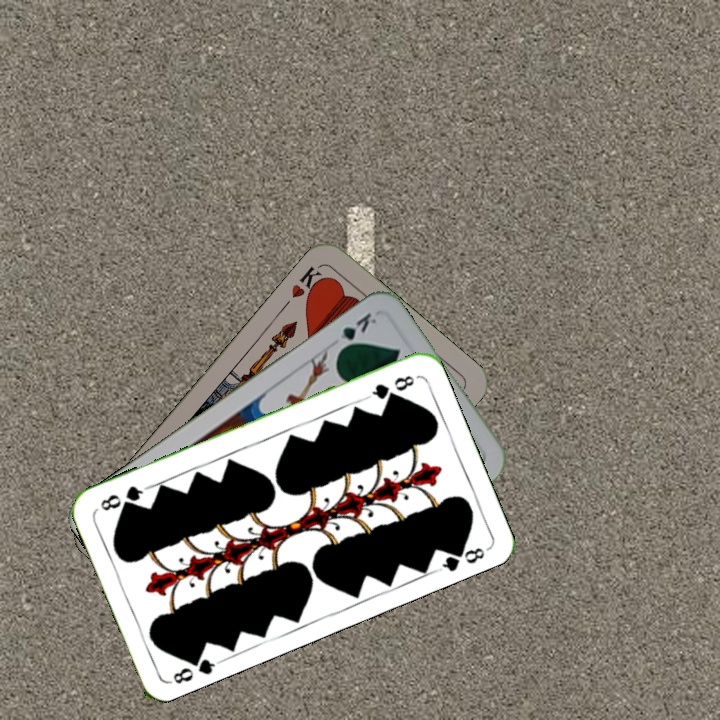G8: (167, 649, 223, 687), (363, 371, 417, 402)
GK: (332, 308, 380, 355)
HK: (287, 261, 329, 304)
